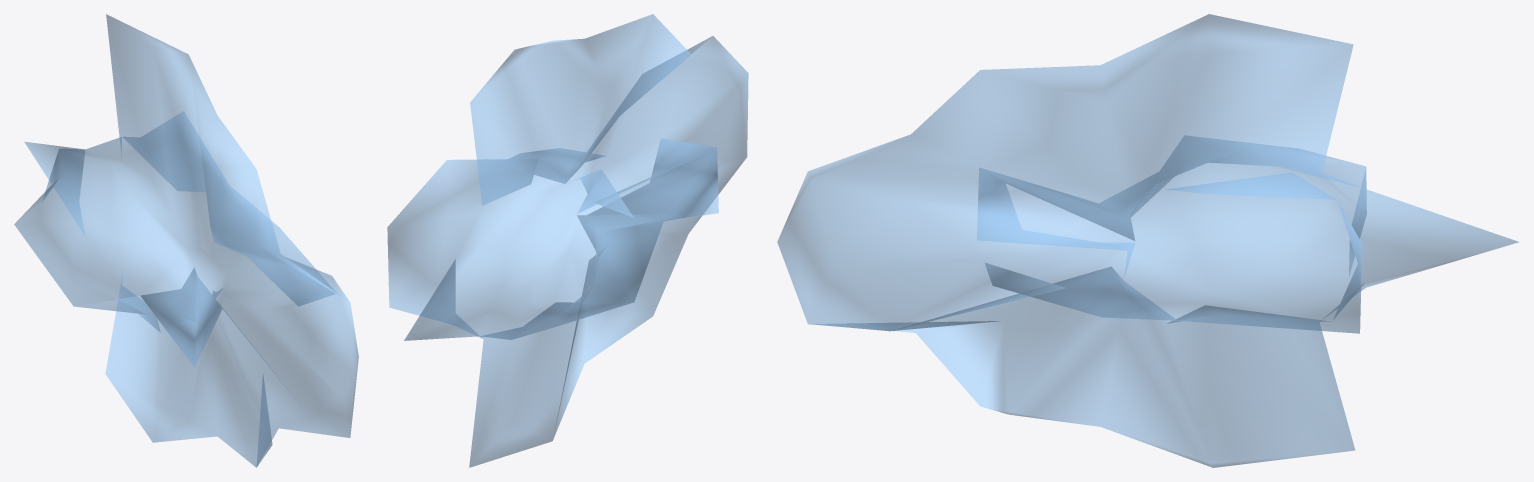
Rendered from s_elan_shield.gltf.
3 views of the same model, side by side, from view 1: azimuth 30°, elevation 25°; view 2: azimuth 150°, elevation 25°; view 3: azimuth 270°, elevation 25° (orthographic). The views are drawn at different scales.
Parts seen in each view (by area): view 1: s_elan.shield; view 2: s_elan.shield; view 3: s_elan.shield.
Part boxes in pixels (bbox=[...]): s_elan.shield: bbox=[14, 14, 358, 467]; s_elan.shield: bbox=[387, 14, 748, 467]; s_elan.shield: bbox=[777, 14, 1518, 467].
Size of the model in its own units: 13.39 by 27.59 by 41.63.
